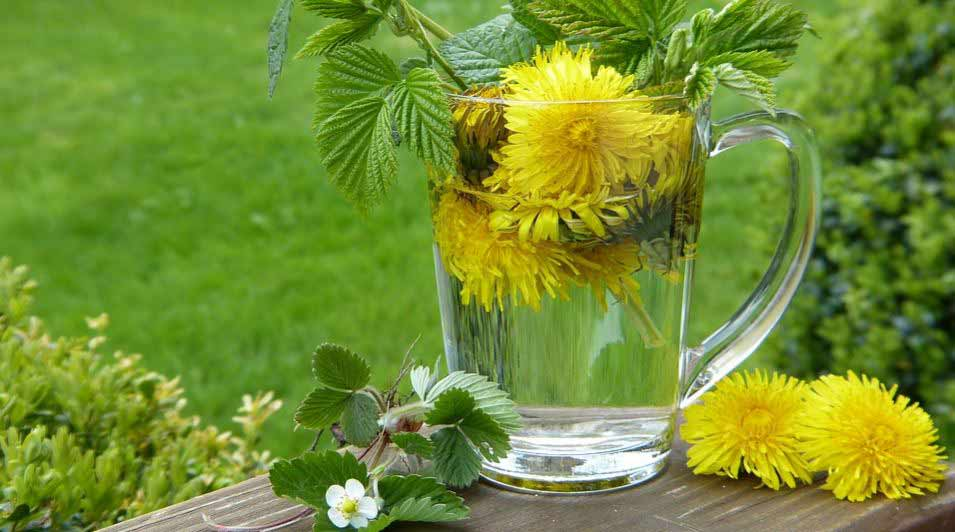dandelion: (504, 69, 657, 209), (686, 361, 819, 498), (812, 367, 938, 507)
